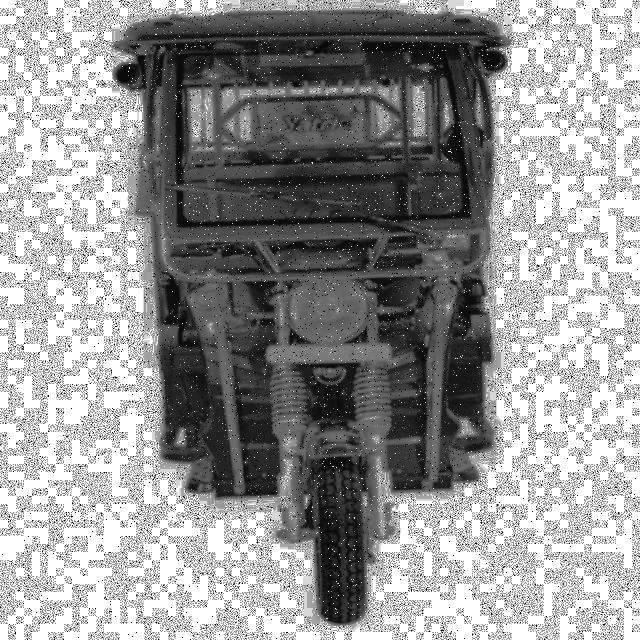Toto: (121, 4, 507, 617)
